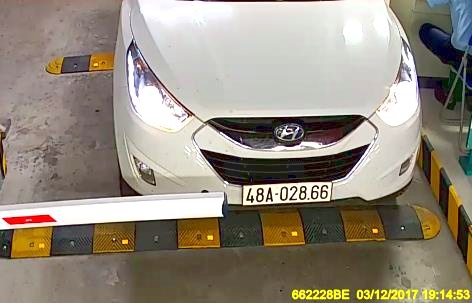plate: (236, 176, 331, 206)
